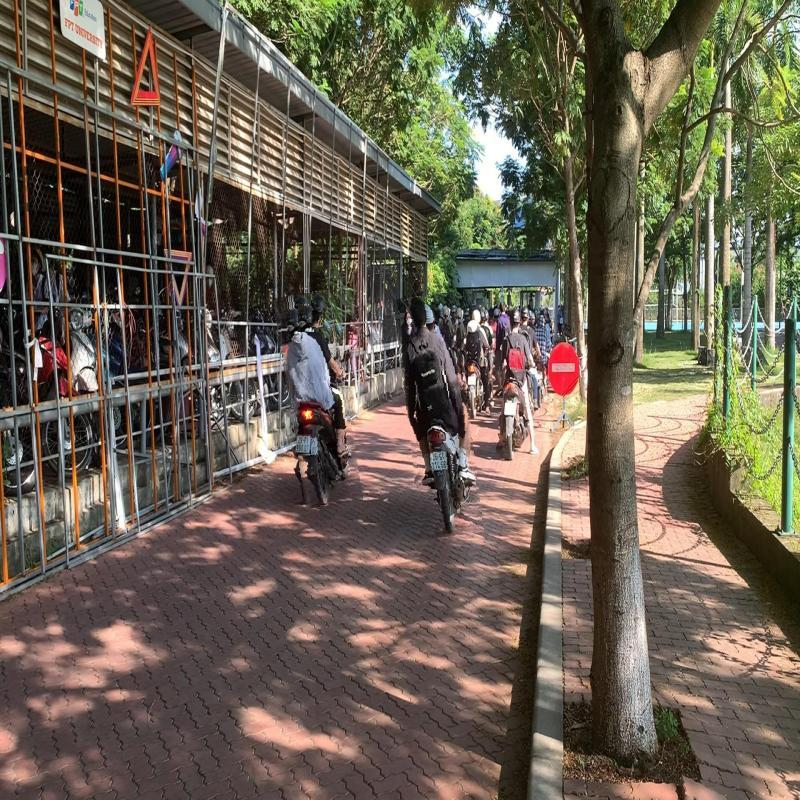helmet: (308, 292, 327, 328), (298, 304, 314, 332)
licenseplate: (426, 451, 442, 472), (295, 435, 311, 454)
motorcyclist: (400, 294, 477, 538), (281, 290, 355, 506)
nohelmet: (423, 294, 440, 331)
